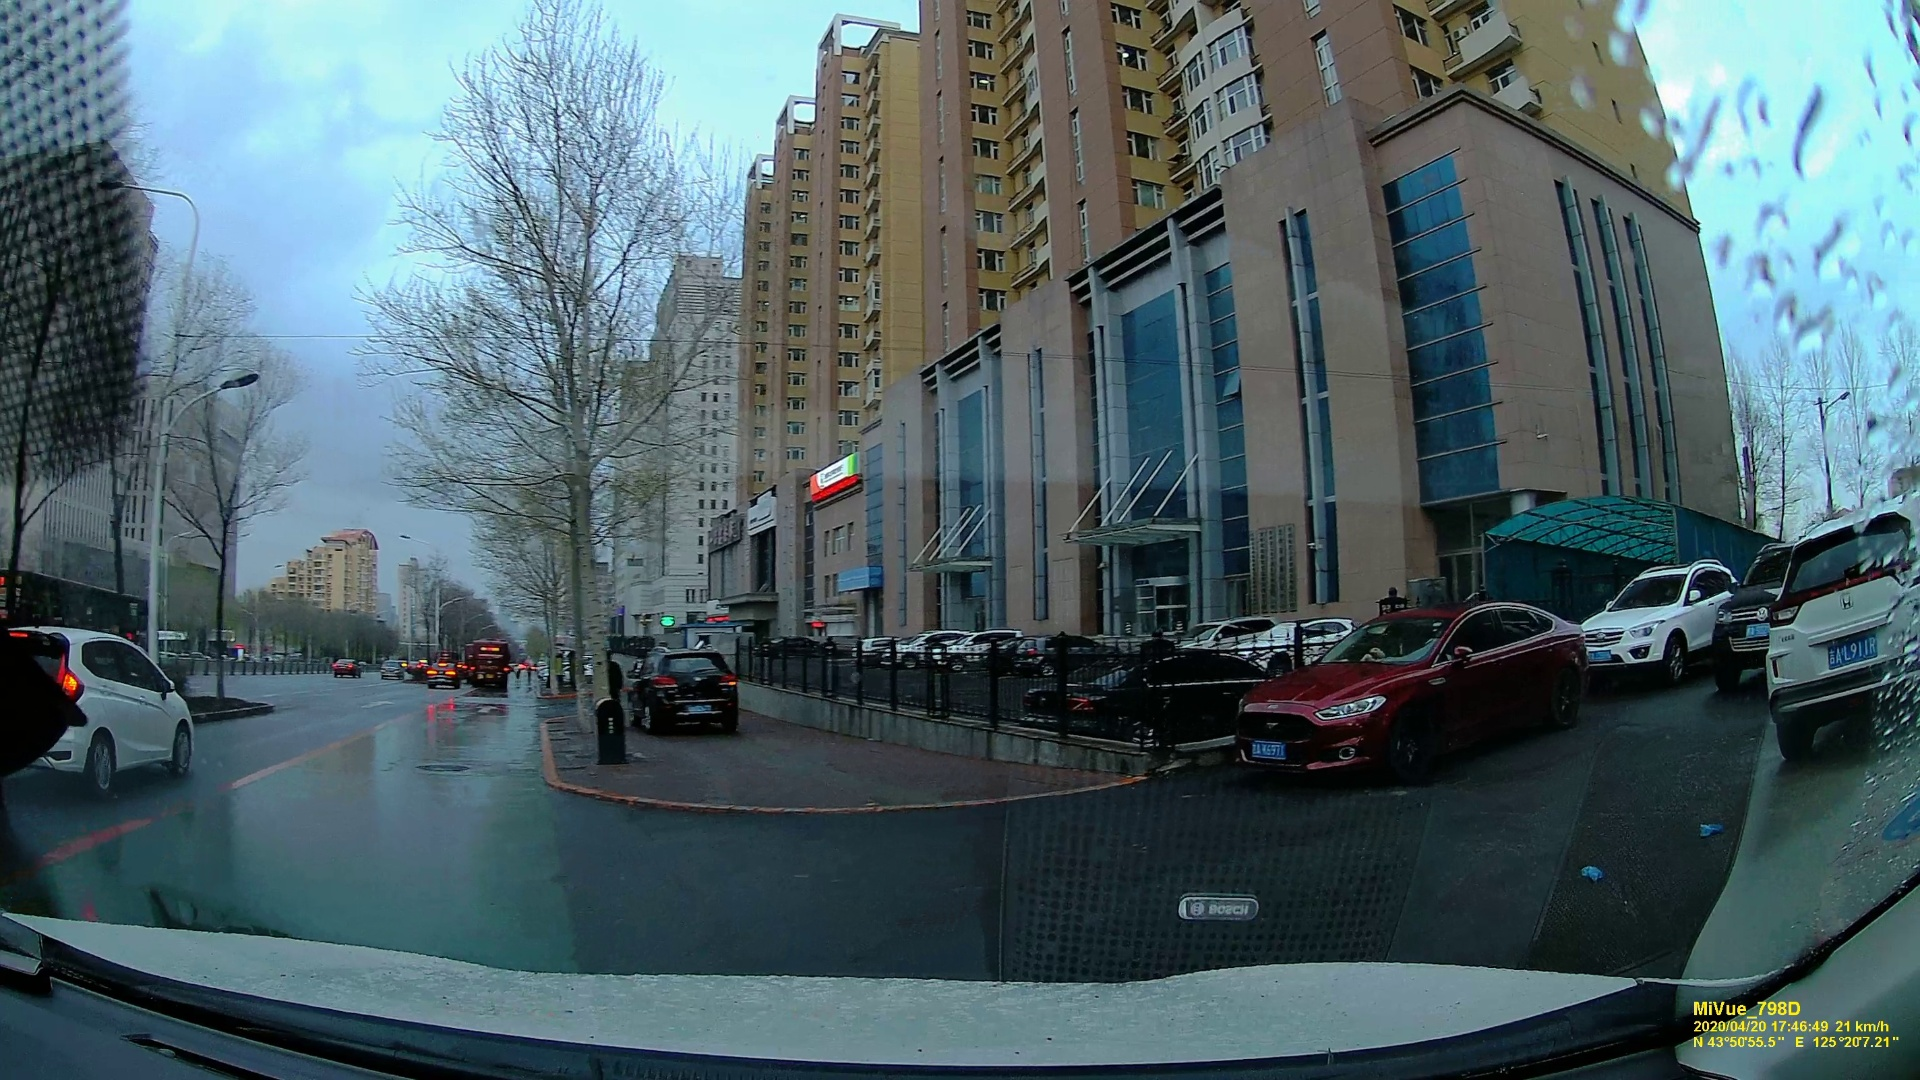bus: (465, 640, 508, 692)
vehicle: (1236, 597, 1592, 785), (1, 618, 191, 796), (1589, 556, 1735, 688), (634, 651, 738, 737), (429, 661, 459, 688), (332, 658, 357, 676)
